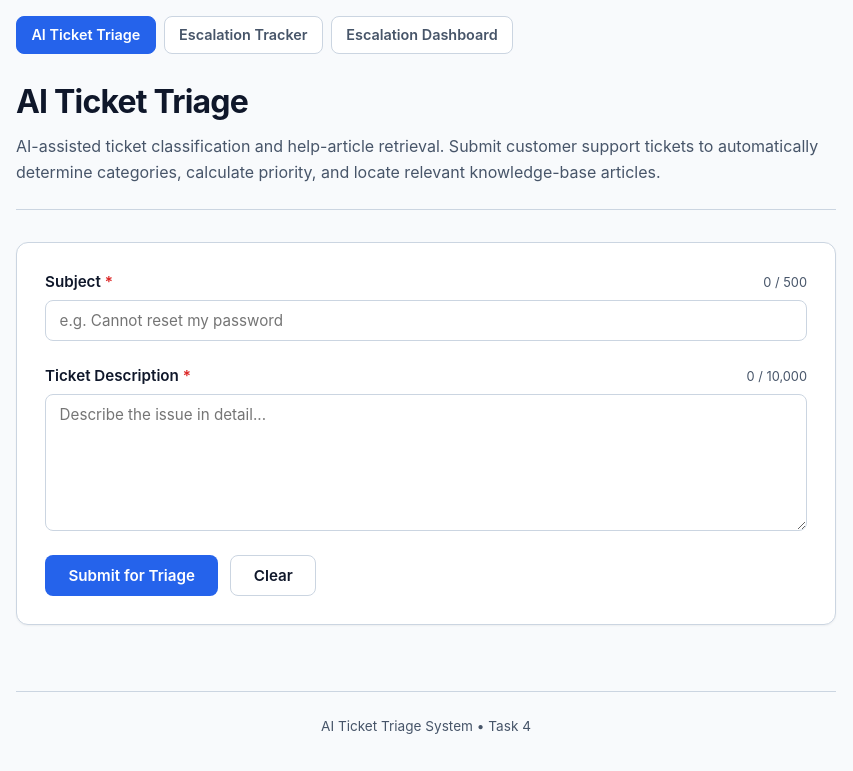
Scenario: Error messages from the backend › shows the triage 503 message instead of the generic text
Type "Cannot log in" into the field labelled "Subject *" at (426, 320), box [45,300,807,341]
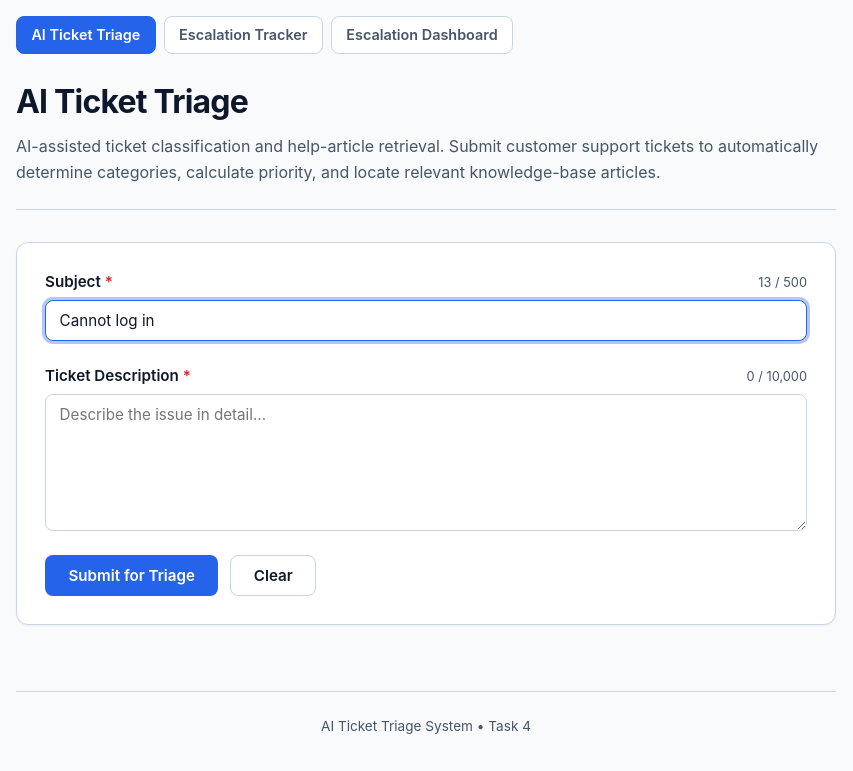
Type "Reset email never arrives" into the text box labelled "Ticket Description *" at (426, 462), box [45,394,807,530]
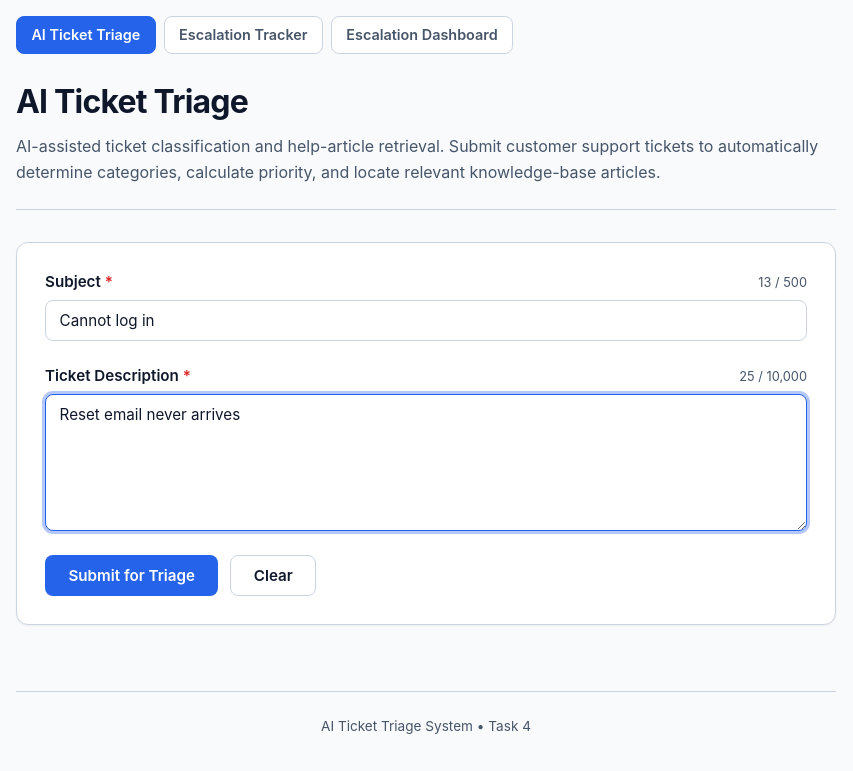
Click the button "Submit for Triage" at (132, 575), box [45,554,218,596]
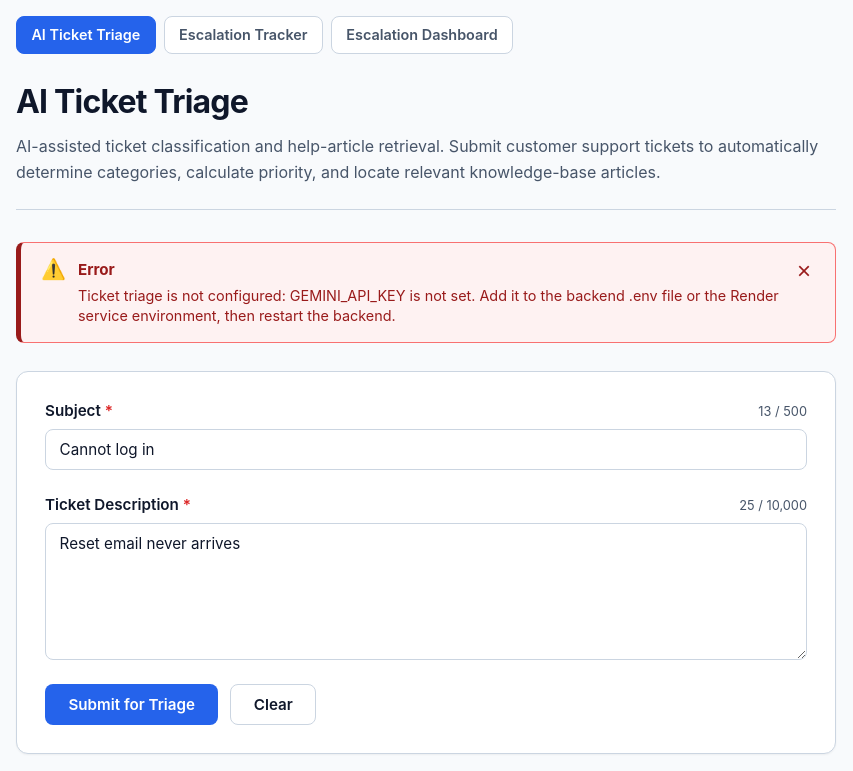
Expected: the message does not show "Server returned an error (503)", [16,242,836,343]
Expected: the message shows "Ticket triage is not configured", [78,287,779,324]
